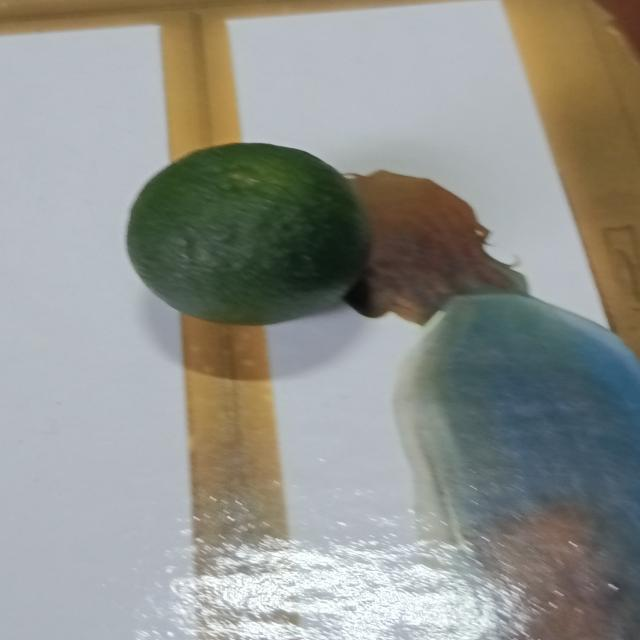heathy: (128, 143, 383, 335)
